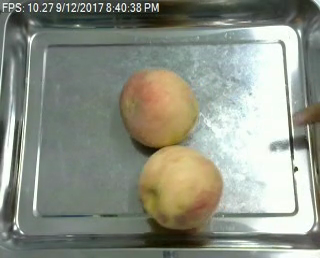Peach: (138, 145, 223, 231), (118, 68, 199, 148)
